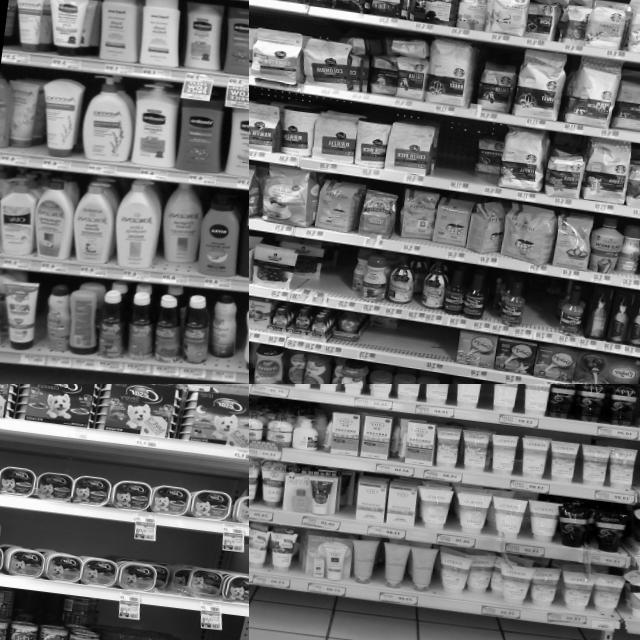100% O.O.S: (433, 120, 478, 192), (394, 322, 458, 372), (320, 244, 356, 308), (521, 294, 557, 340), (360, 326, 394, 363)
